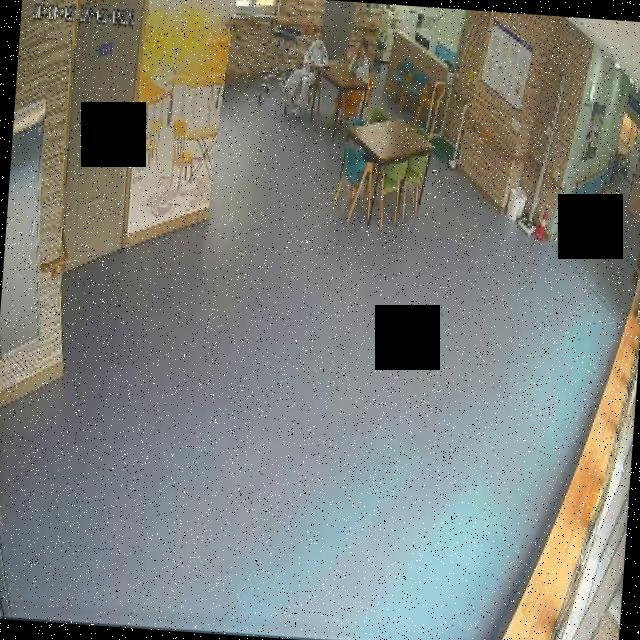patient: (277, 28, 332, 122), (346, 30, 381, 86)
sit: (278, 28, 332, 122)
